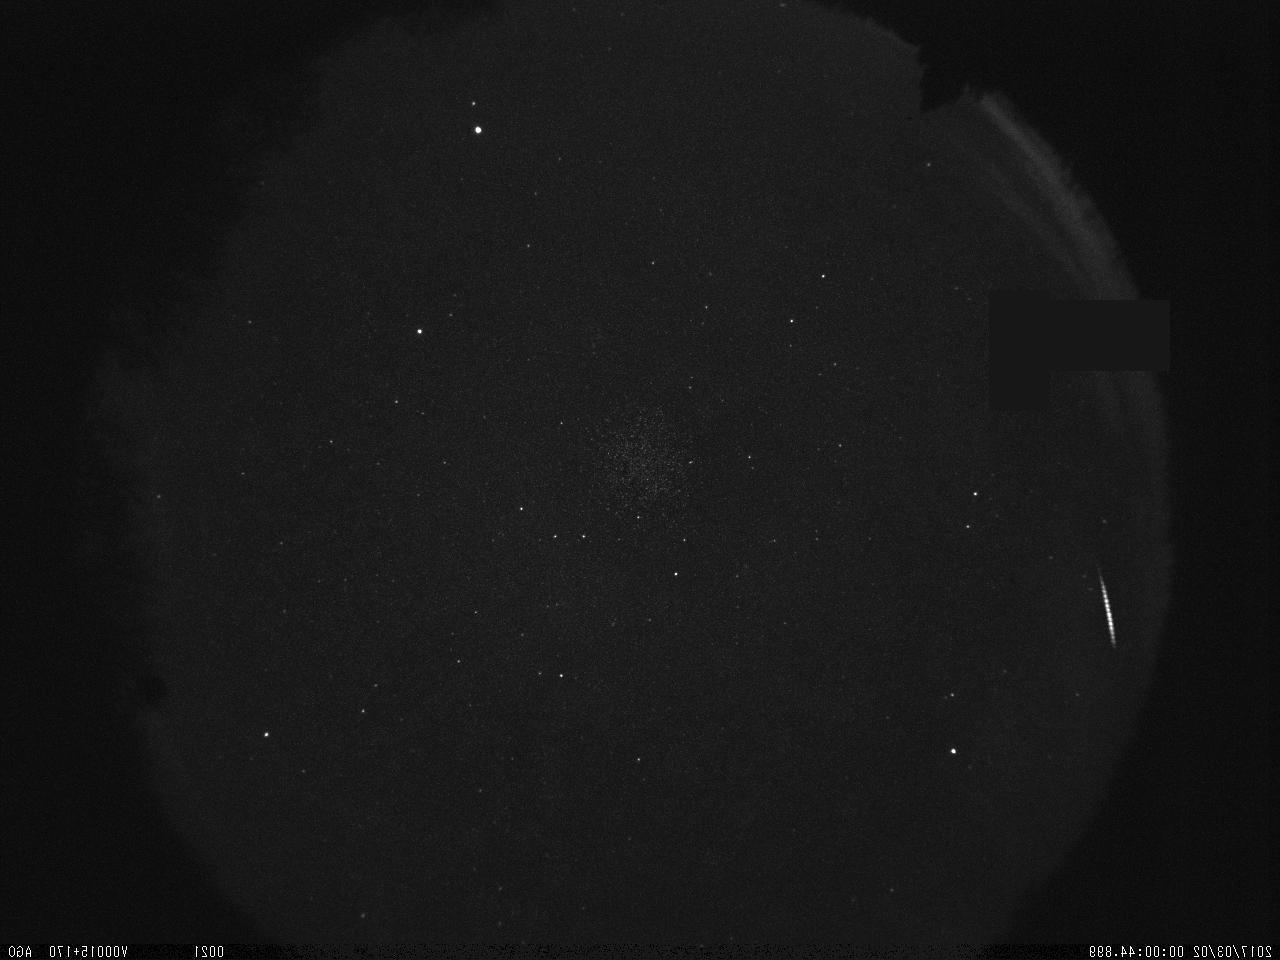meteor: (1093, 556, 1124, 646)
